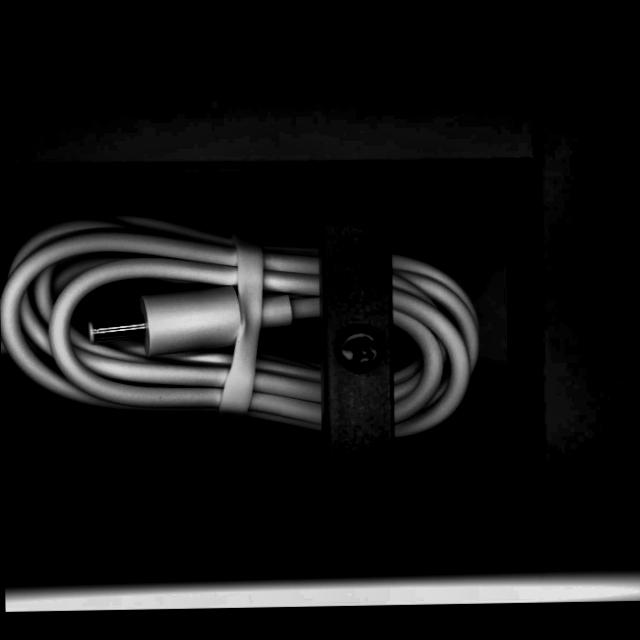Cable: (0, 203, 485, 450)
